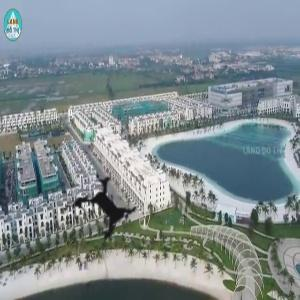drone: (39, 146, 170, 277)
